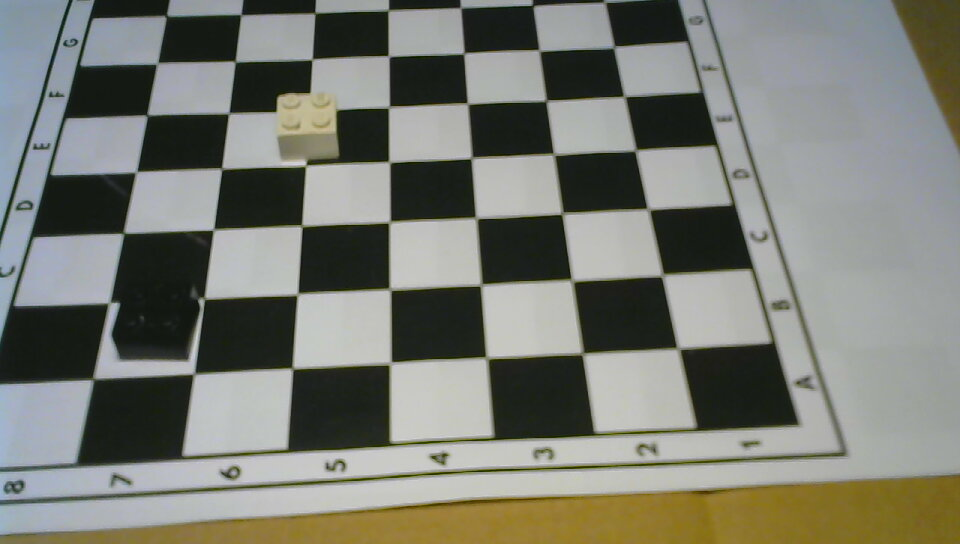bp: (112, 278, 201, 363)
wp: (274, 90, 340, 160)
